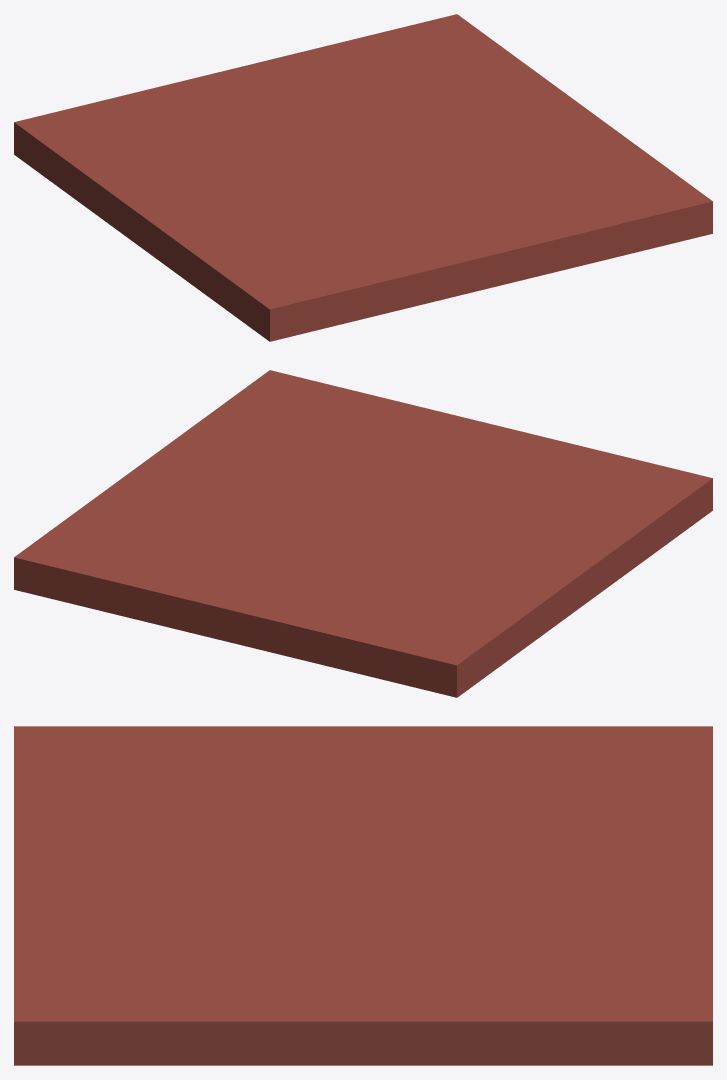
File: SU_Airfield_LOD0.glb
The picture shows the model from 3 angles, top to bottom: view 1: azimuth 30°, elevation 25°; view 2: azimuth 150°, elevation 25°; view 3: azimuth 270°, elevation 25°; orthographic projection. The views are drawn at different scales.
Parts seen in each view (by area): view 1: Cube.001; view 2: Cube.001; view 3: Cube.001.
Boxes of the visible parts, box(x1,y1,x2,y2) form: Cube.001: box(14, 14, 712, 341); Cube.001: box(14, 370, 712, 697); Cube.001: box(14, 726, 712, 1065).
Size of the model in its own units: 13.6 by 1.42 by 13.6.
